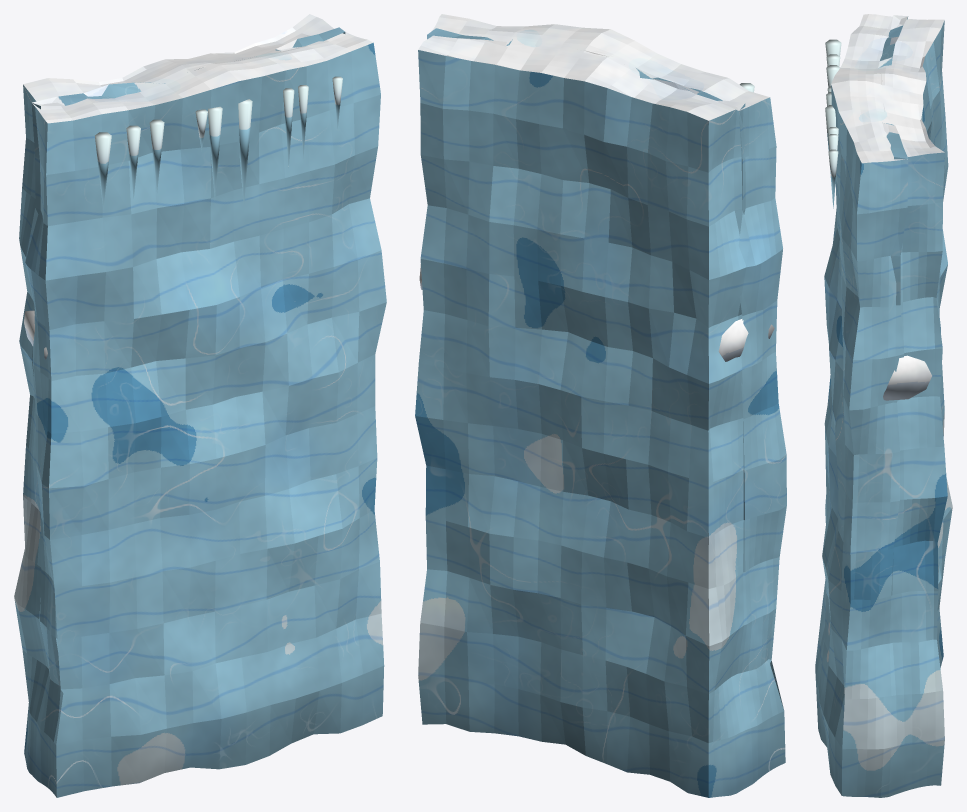
File: glacier_wall.glb
3 renders of one model, left to right at view 1: azimuth 30°, elevation 25°; view 2: azimuth 150°, elevation 25°; view 3: azimuth 270°, elevation 25°, orthographic. The views are drawn at different scales.
Parts seen in each view (by area): view 1: GlacierWall; view 2: GlacierWall; view 3: GlacierWall.
Boxes of the visible parts, left/top/right/bottom form: GlacierWall: left=14, top=14, right=386, bottom=797; GlacierWall: left=415, top=14, right=786, bottom=797; GlacierWall: left=815, top=14, right=952, bottom=797.
Bounding box in the file's own units: 4.26 × 8.22 × 1.57.
1 material, 1 textured.
